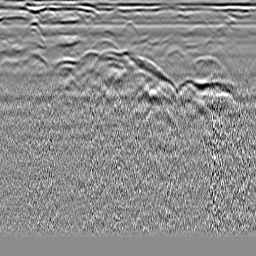cavity: (120, 18, 137, 34)
